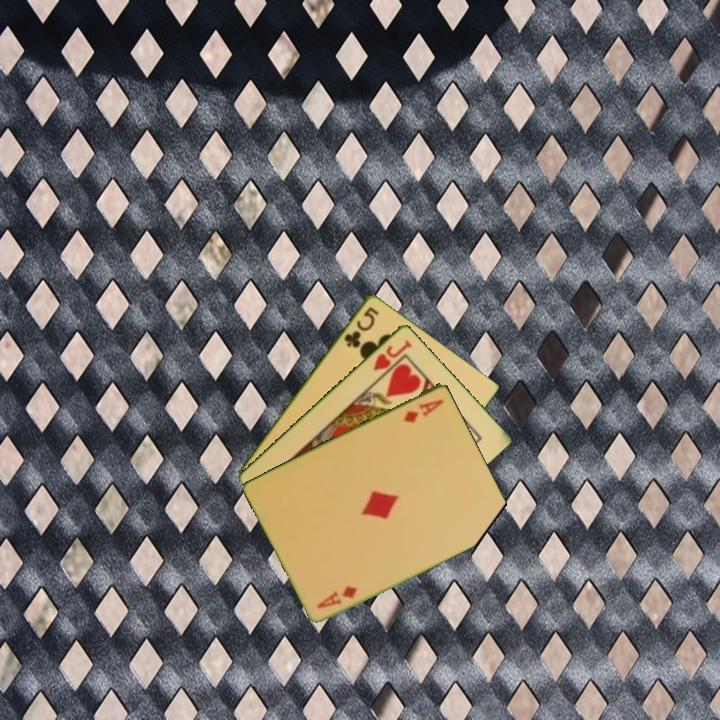5c: (340, 303, 382, 350)
Ad: (400, 395, 447, 425), (313, 582, 361, 611)
Jh: (369, 336, 415, 374)
